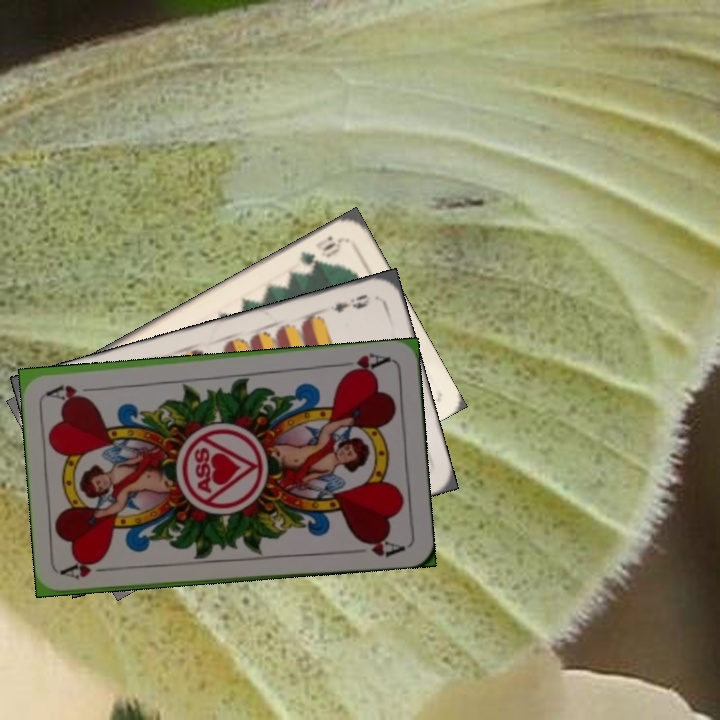E9: (326, 290, 374, 316)
G10: (295, 233, 345, 270)
HA: (340, 348, 393, 378), (59, 556, 119, 581)
